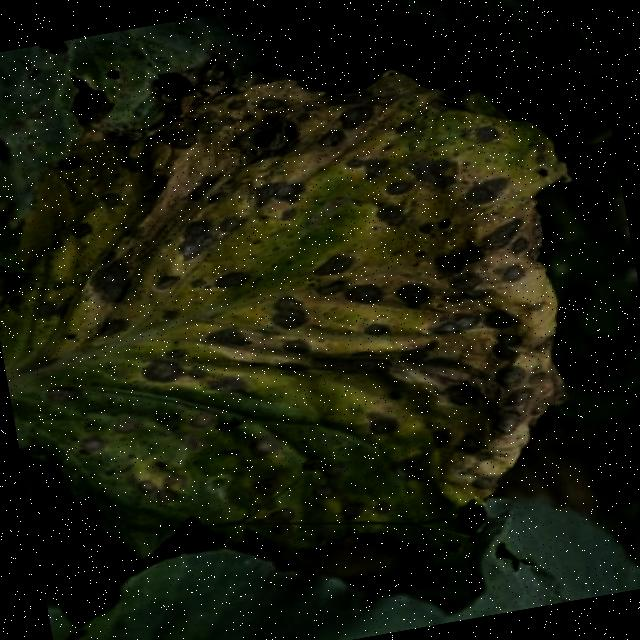Wilt_and_leaf_blight_on_lettuce: (0, 41, 607, 570)
